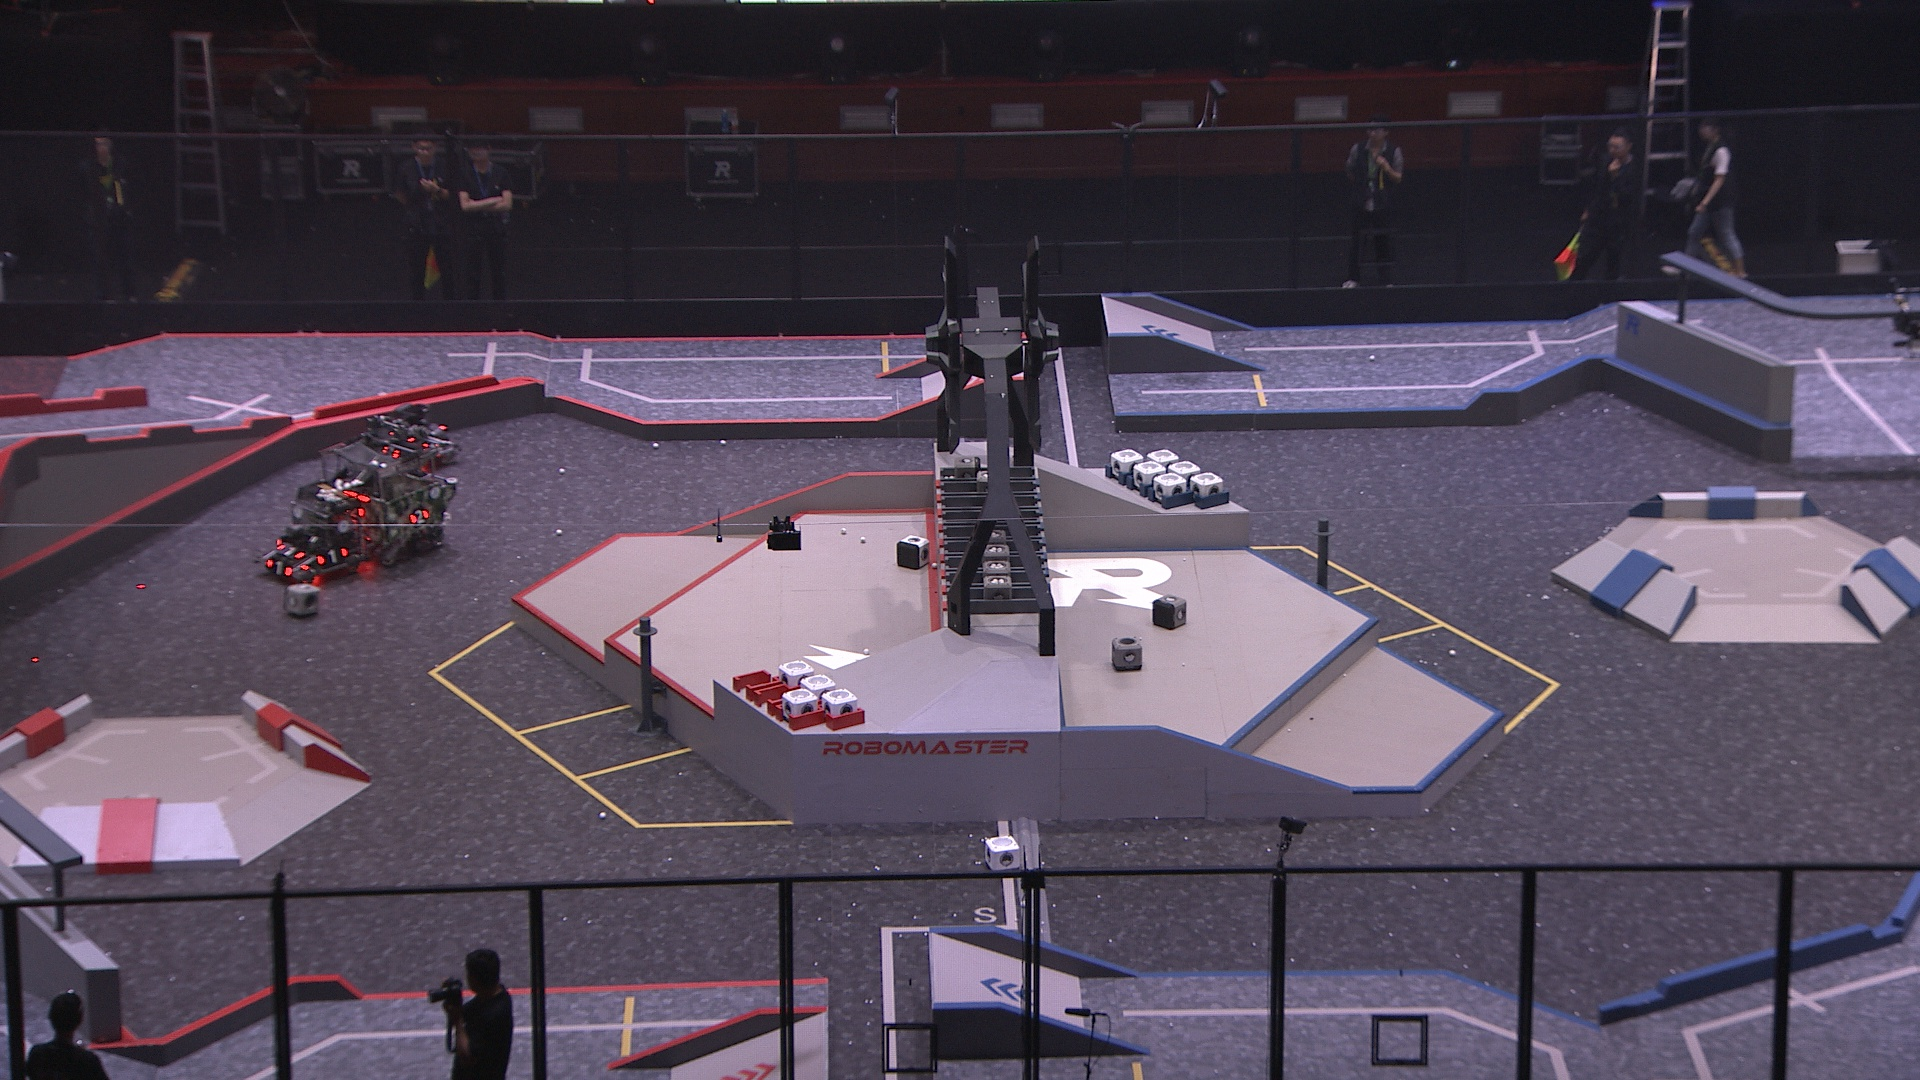armor: (314, 545, 349, 567), (264, 556, 294, 578), (276, 541, 305, 560), (406, 506, 433, 527), (342, 498, 367, 520)
car: (316, 433, 458, 570), (257, 476, 368, 588), (361, 400, 462, 473)
watcher: (1887, 276, 1920, 360)
